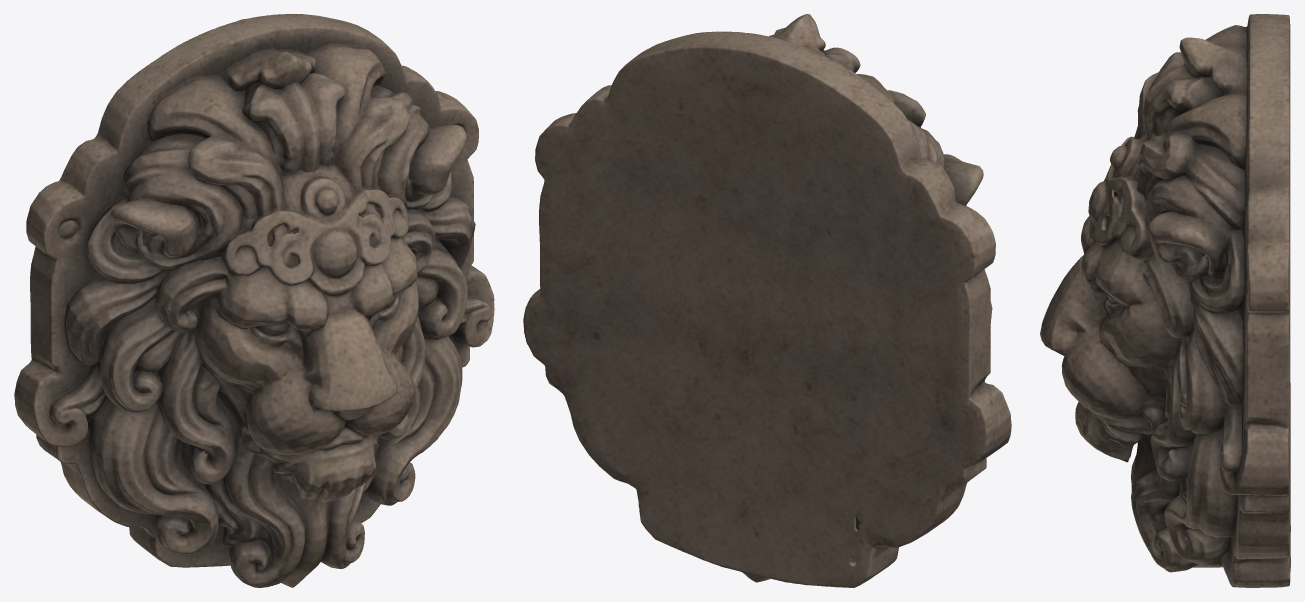
File: generation_lion_relief_0.glb
The picture shows the model from 3 angles, left to right: view 1: azimuth 30°, elevation 25°; view 2: azimuth 150°, elevation 25°; view 3: azimuth 270°, elevation 25°; orthographic projection. The views are drawn at different scales.
Parts seen in each view (by area): view 1: geometry_0; view 2: geometry_0; view 3: geometry_0.
Part boxes in pixels (<box>): geometry_0: <box>14,14,494,587</box>; geometry_0: <box>523,14,1011,587</box>; geometry_0: <box>1040,14,1290,587</box>.
Size of the model in its own units: 0.9047 by 1 by 0.4287.
1 material, 1 textured.
